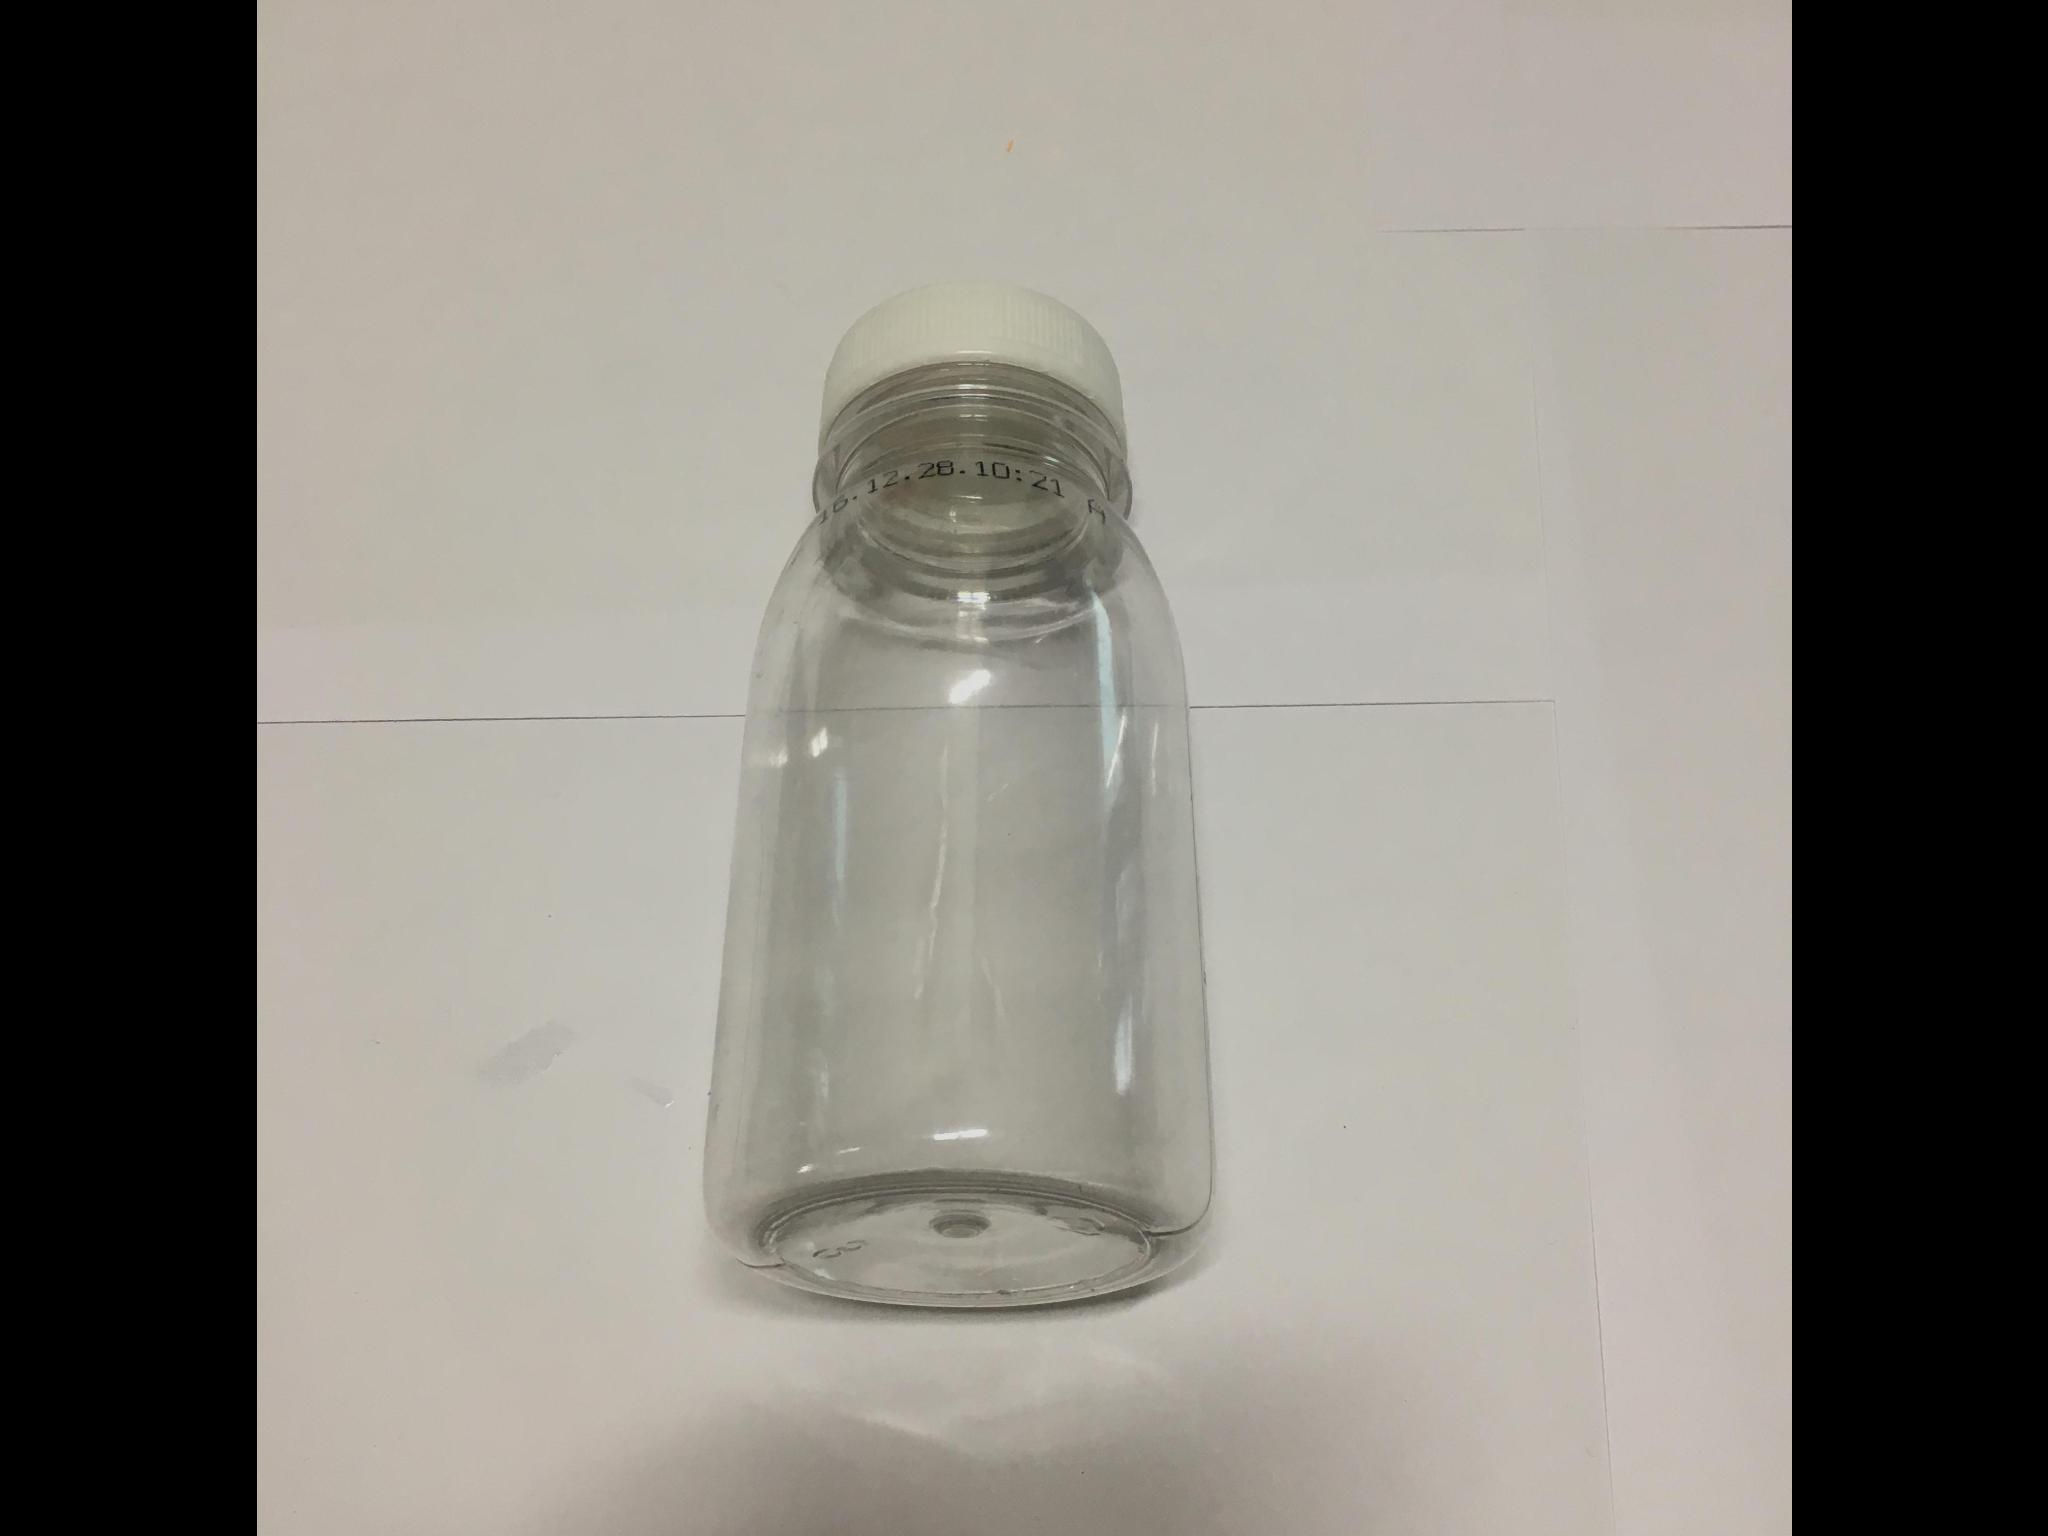bottle: (702, 247, 1214, 1330)
